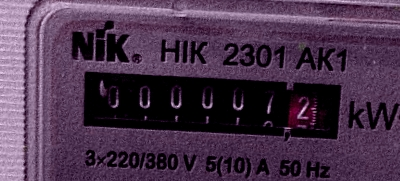0: (104, 81, 123, 109), (198, 83, 217, 111), (167, 81, 185, 110), (136, 82, 154, 110), (230, 84, 247, 113)
2: (294, 94, 312, 122)
7: (261, 86, 278, 117)
screen: (69, 58, 354, 152)
